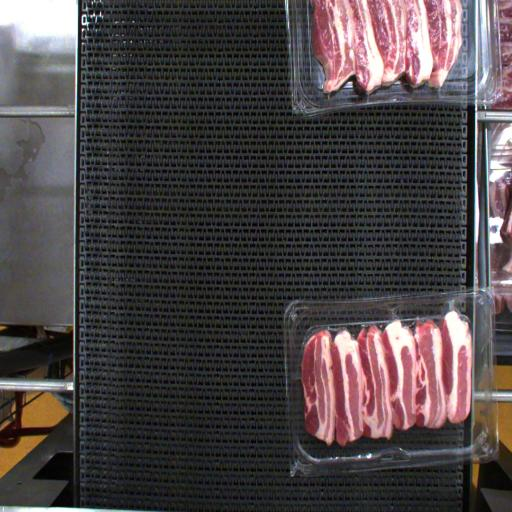packaging-error: (441, 297, 469, 318), (384, 310, 403, 322)
unsealed: (406, 309, 483, 343), (298, 318, 357, 346)
